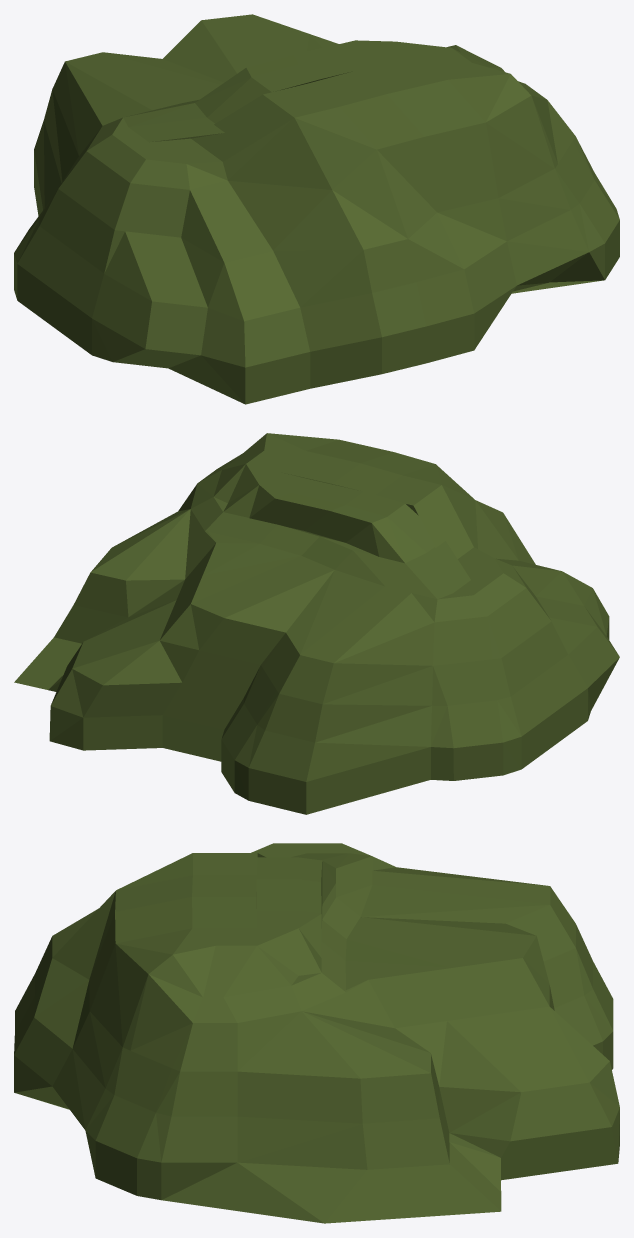
Rendered from Bush4.fbx.
3 views of the same model, one above another, from view 1: azimuth 30°, elevation 25°; view 2: azimuth 150°, elevation 25°; view 3: azimuth 270°, elevation 25° (orthographic). The views are drawn at different scales.
Visible parts, largest first — view 1: Bush4; view 2: Bush4; view 3: Bush4.
Boxes of the visible parts, x1,y1,x2,y2 form: Bush4: [14, 14, 619, 404]; Bush4: [14, 433, 619, 814]; Bush4: [14, 843, 619, 1223].
Size of the model in its own units: 1357 by 503 by 1303.
